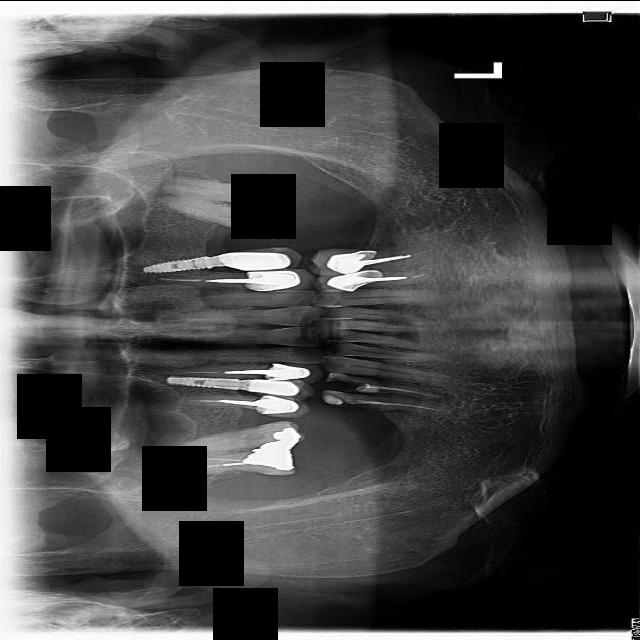55: (142, 254, 226, 273), (165, 375, 249, 390)
71: (337, 241, 412, 274), (219, 390, 289, 412), (204, 270, 296, 286), (336, 269, 410, 286), (223, 363, 300, 379), (221, 460, 251, 466)
74: (344, 397, 437, 410), (360, 382, 439, 396), (180, 456, 242, 463), (181, 463, 226, 469), (156, 277, 204, 281), (177, 370, 221, 374), (190, 399, 220, 402)
NucleOSS Implant: (253, 421, 301, 467), (232, 200, 281, 237), (243, 441, 299, 471), (258, 180, 284, 205)
Straumann Implant: (321, 391, 343, 407)
Zimmer Implant: (219, 244, 303, 275), (312, 263, 383, 296), (308, 244, 375, 278), (246, 373, 316, 401), (245, 267, 314, 292), (255, 392, 311, 420), (266, 362, 323, 385)
